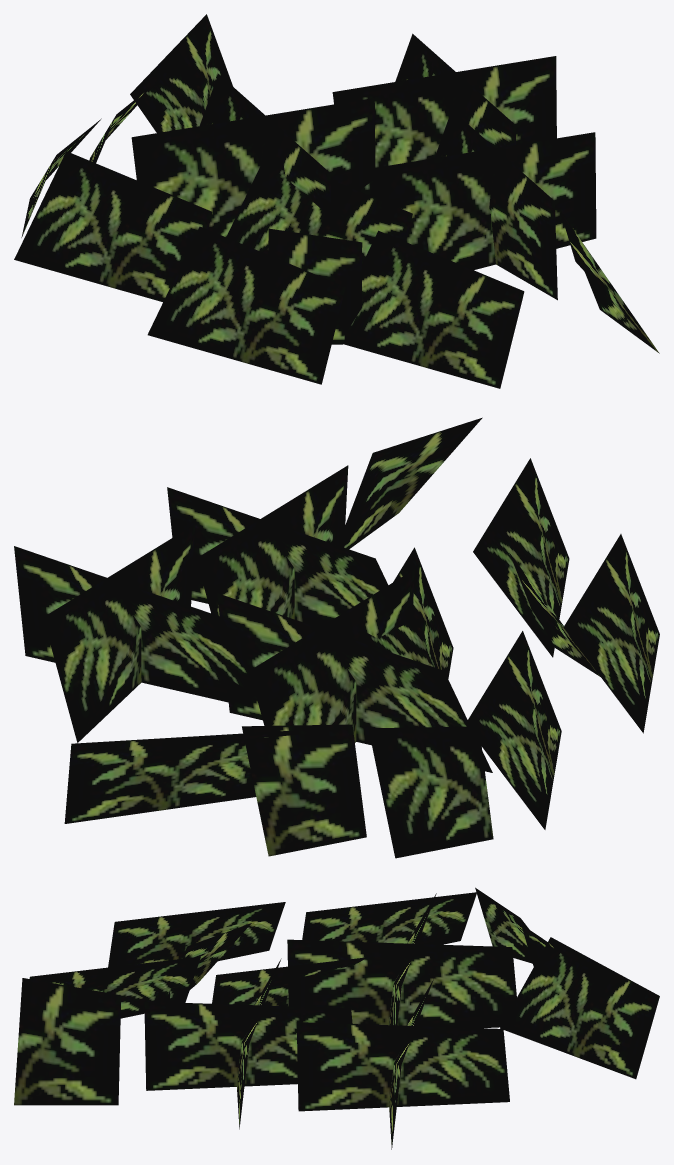
Rendered from grs_flower_03_1.glb.
The picture shows the model from 3 angles, top to bottom: view 1: azimuth 30°, elevation 25°; view 2: azimuth 150°, elevation 25°; view 3: azimuth 270°, elevation 25°; orthographic projection. The views are drawn at different scales.
Visible parts, largest first — view 1: grs_flower_03_1; view 2: grs_flower_03_1; view 3: grs_flower_03_1.
Part boxes in pixels (x1,y1,x2,y2): grs_flower_03_1: (14, 14, 659, 388); grs_flower_03_1: (14, 417, 659, 858); grs_flower_03_1: (14, 887, 659, 1149).
Bounding box in the file's own units: 5.48 × 1.14 × 6.97.
Materials: 1 (1 with a texture image).
